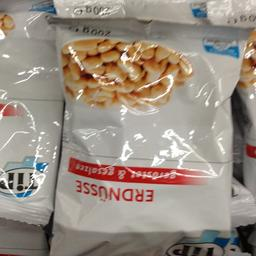nuts: (48, 16, 247, 254)
